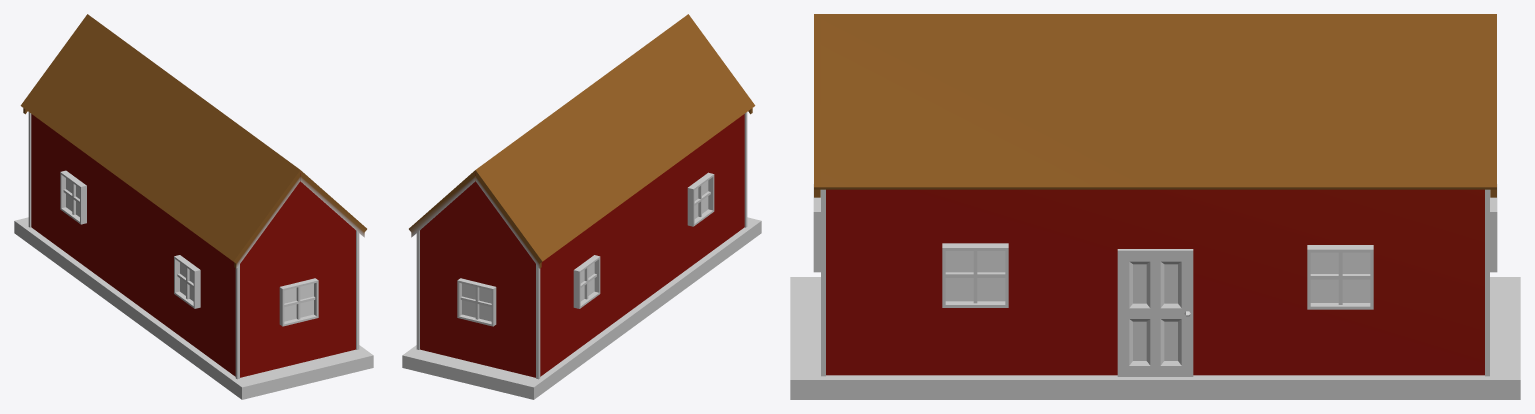
Rendered from Stuga.fbx.
The picture shows the model from 3 angles, left to right: view 1: azimuth 30°, elevation 25°; view 2: azimuth 150°, elevation 25°; view 3: azimuth 270°, elevation 25°; orthographic projection. The views are drawn at different scales.
Parts seen in each view (by area): view 1: House, Windows; view 2: House, Windows; view 3: House, Windows.
Boxes of the visible parts, x1,y1,x2,y2 form: House: [14, 14, 373, 399]; Windows: [66, 178, 313, 321]; House: [402, 14, 761, 399]; Windows: [462, 180, 708, 321]; House: [790, 14, 1520, 399]; Windows: [945, 251, 1370, 302].
Size of the model in its own units: 224 by 334 by 660.
